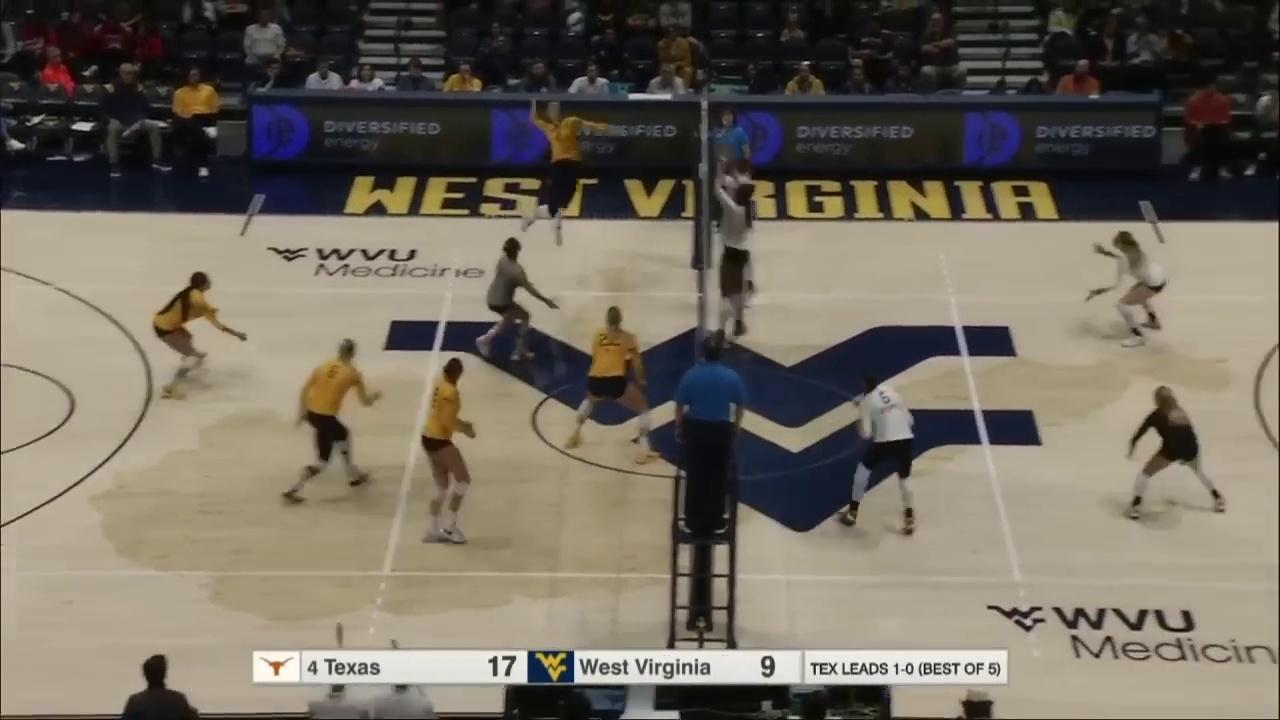player: (284, 339, 380, 504), (1122, 385, 1229, 519), (519, 104, 613, 239), (570, 311, 652, 460), (842, 376, 913, 530), (476, 240, 560, 359), (1084, 234, 1167, 349), (422, 357, 468, 543), (155, 274, 215, 395), (711, 185, 755, 341)
refree: (675, 341, 733, 534), (713, 107, 755, 242)
